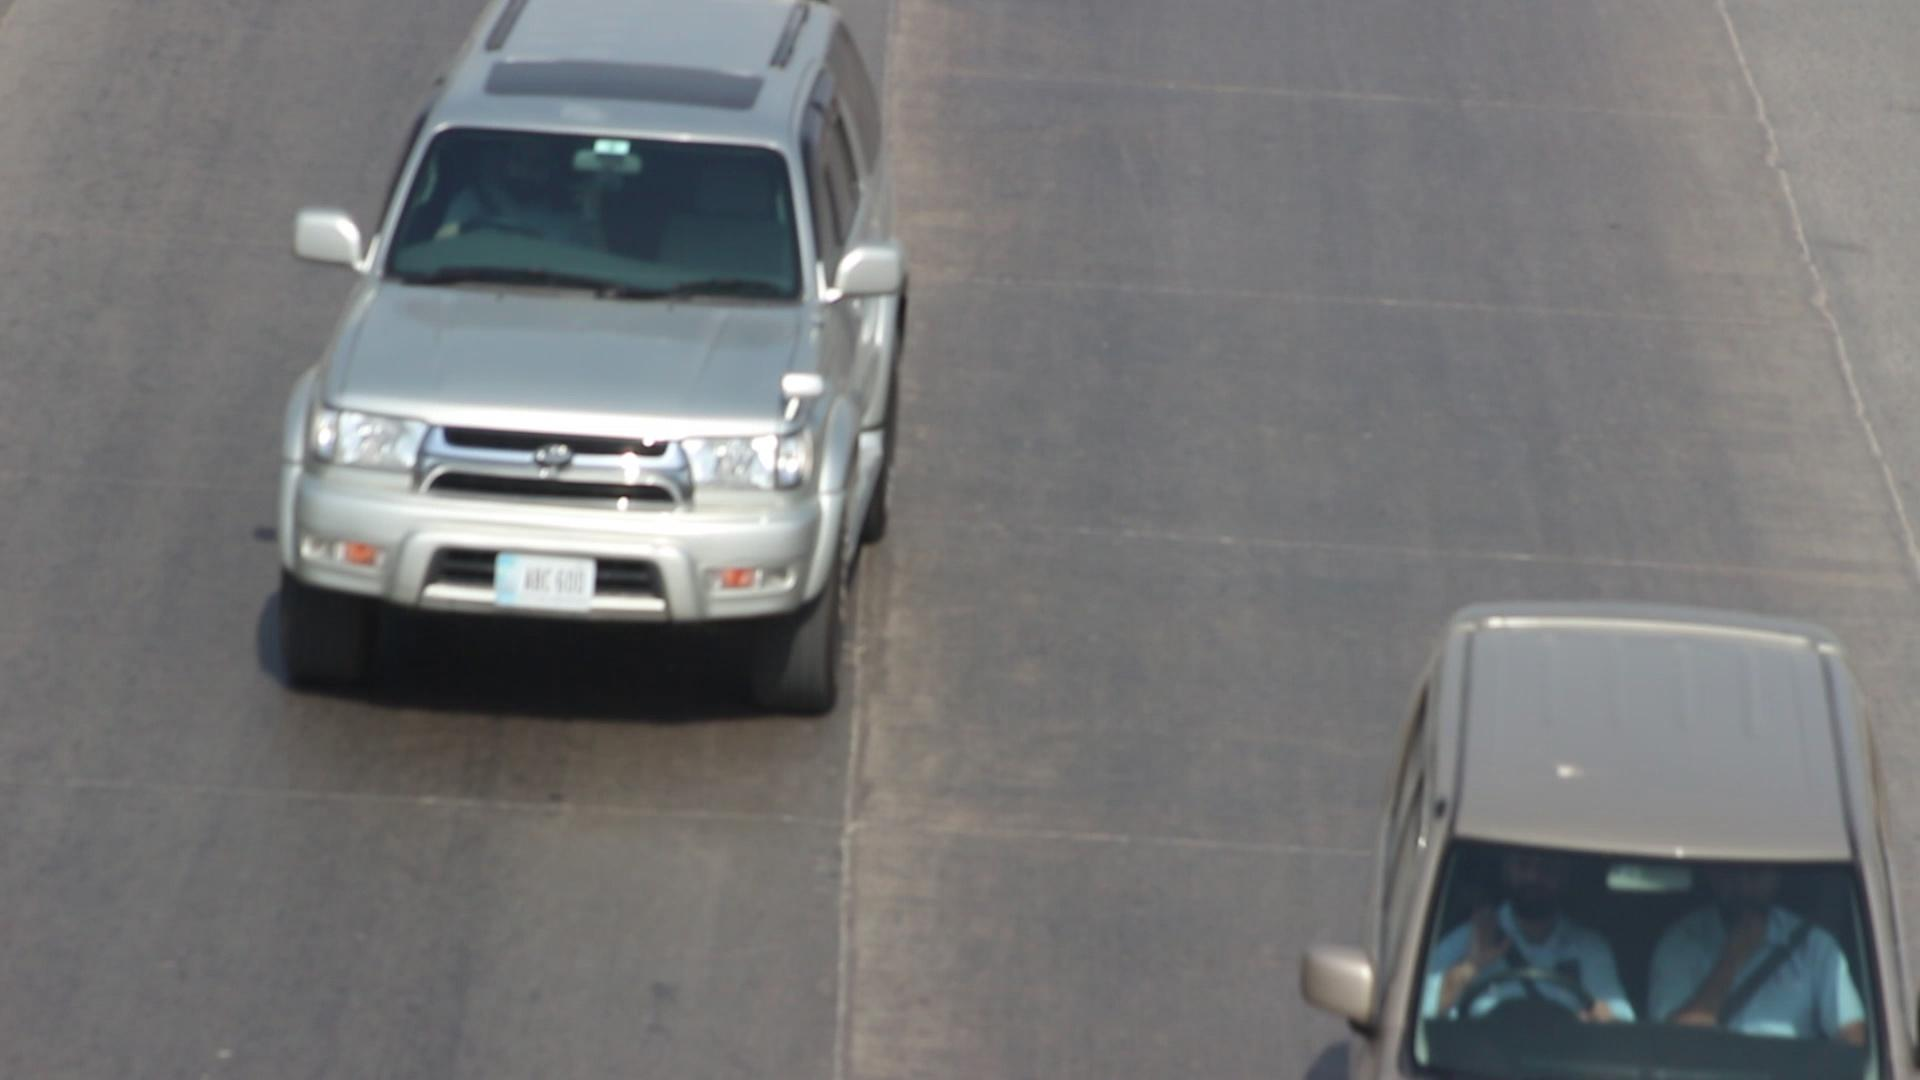windshield: (371, 107, 824, 330)
